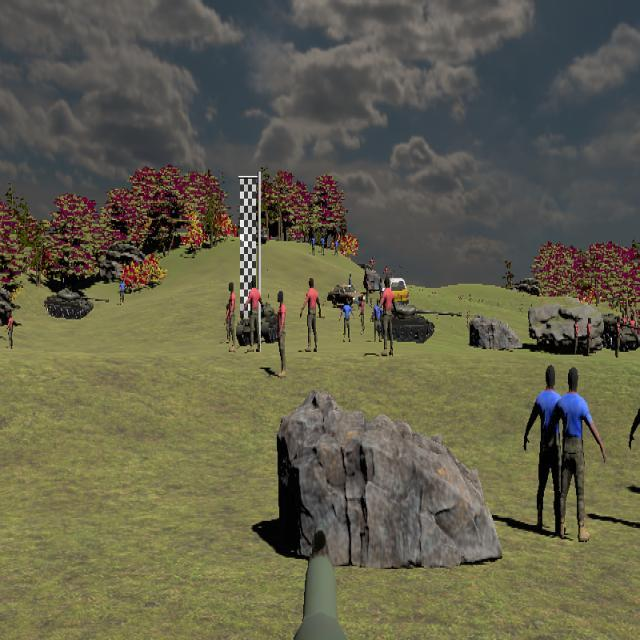Human: (545, 366, 606, 545), (627, 361, 640, 538), (300, 276, 322, 353), (244, 279, 265, 353), (380, 276, 397, 355), (276, 290, 288, 377), (339, 297, 355, 343), (370, 295, 384, 346), (228, 282, 238, 351), (225, 282, 235, 347)
Tank: (370, 302, 461, 343), (44, 287, 109, 320)
car: (365, 277, 410, 307), (327, 284, 364, 309)
